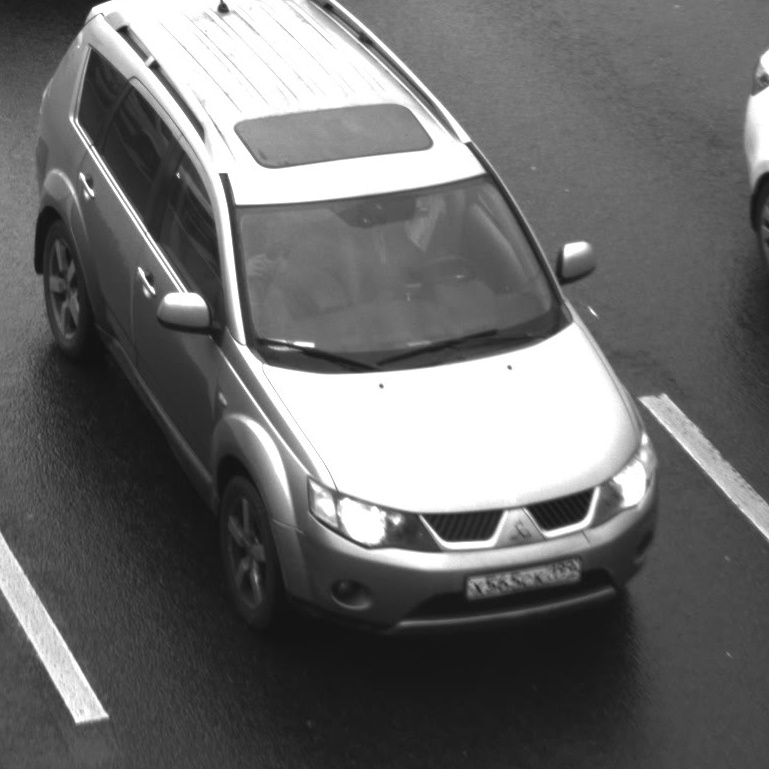plate: (458, 548, 590, 605)
